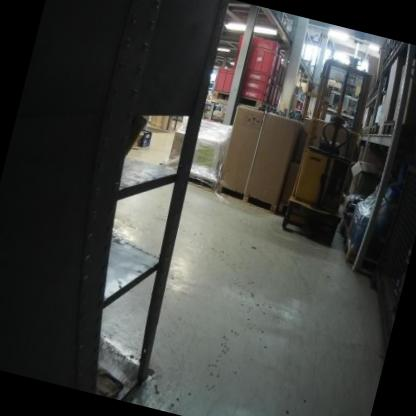pallet: (337, 228, 386, 276), (214, 183, 279, 215), (212, 89, 272, 113), (182, 169, 220, 195), (380, 119, 416, 145), (370, 123, 382, 140), (340, 107, 357, 118), (326, 83, 342, 94), (325, 102, 337, 111), (269, 106, 277, 113), (279, 110, 286, 118)
pallet_truck: (281, 58, 378, 249)
